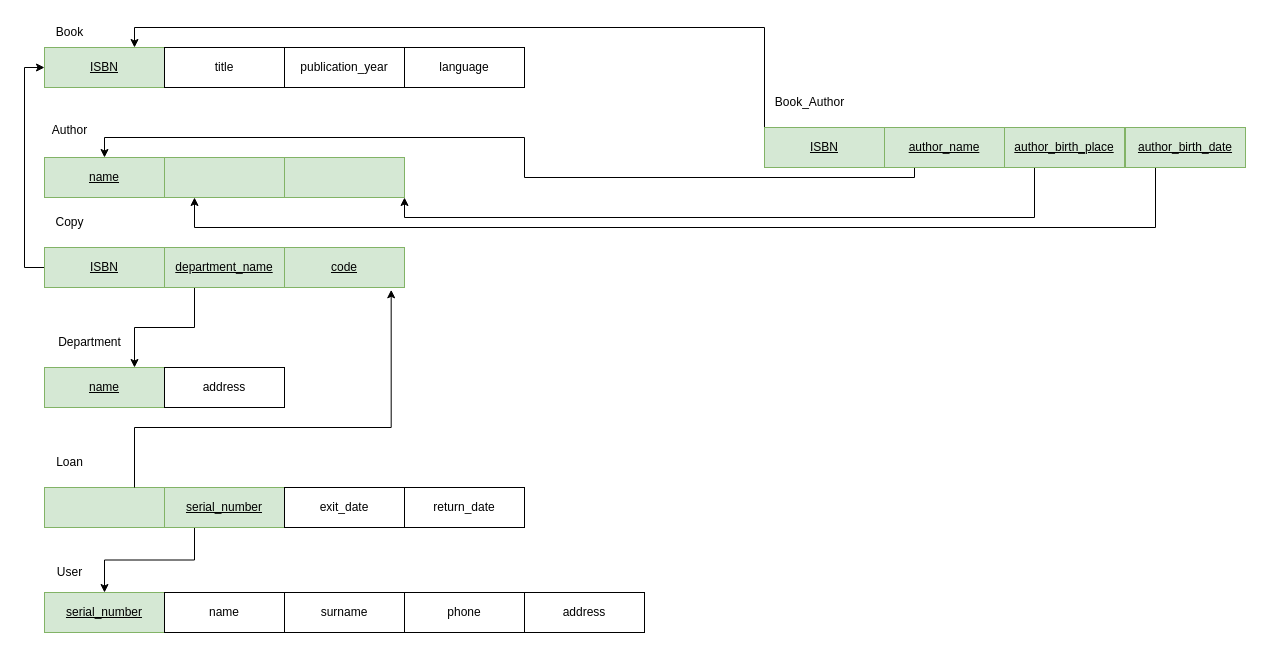
The diagram is 1263 pixels wide and 650 high, and some of its shapes have lost their labels. The centre of each missing label's shape, as x and y in pixels:
birth_date: point (224, 177)
birth_place: point (344, 177)
copy_code: point (104, 507)
